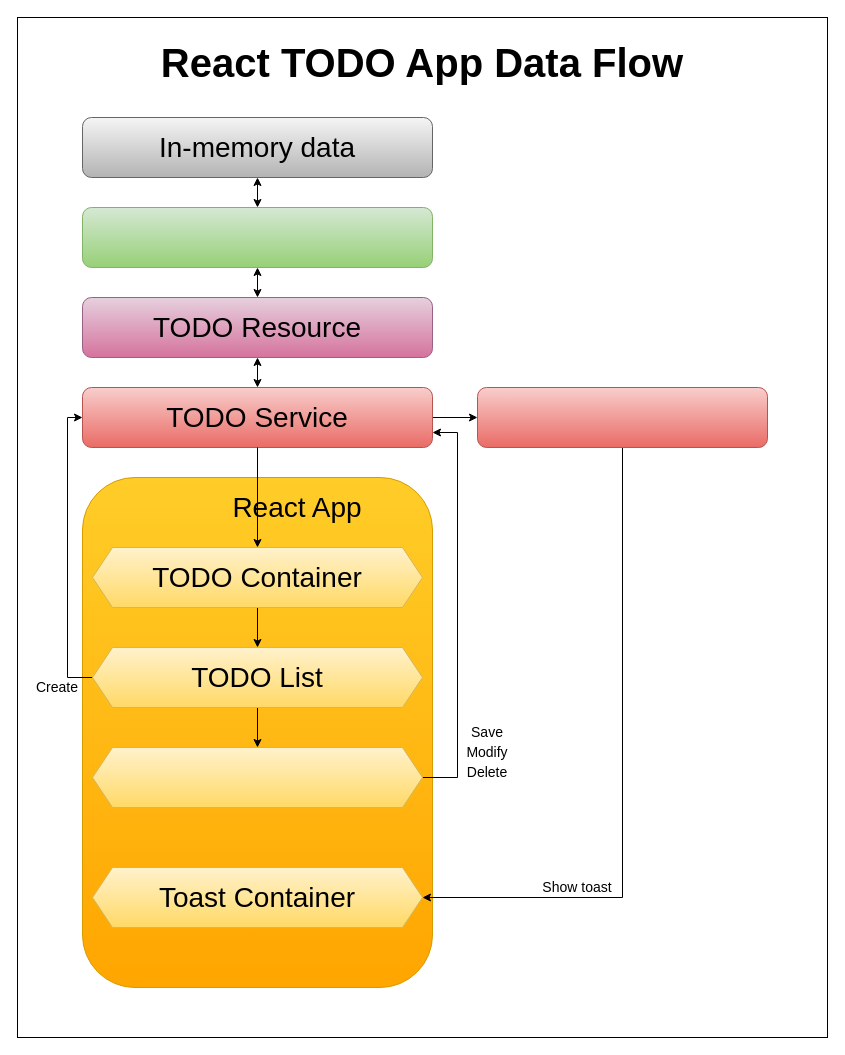
Some shapes in this 845 by 1055 pixel diagram are drawn without their labels. Here are the shapes that lost their labels. From the top down, the box of each, then its label:
(82, 206, 432, 268): Mirage API
(476, 386, 768, 448): Toast Service
(92, 746, 422, 808): TODO ListItem
